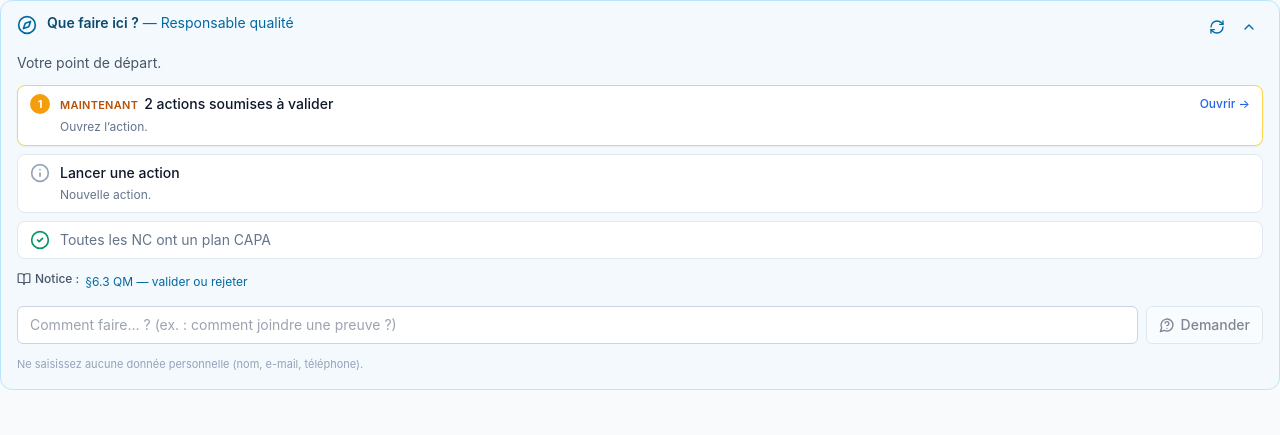
Test case: GuidePanel › affiche le refus du serveur (donnée personnelle)
Expected: the text "2 actions soumises à valider" is shown, [144,95,333,112]
Type "écrire à a@b.fr" into the field labelled "Comment faire… ?" at (577, 325), box [17,306,1138,344]
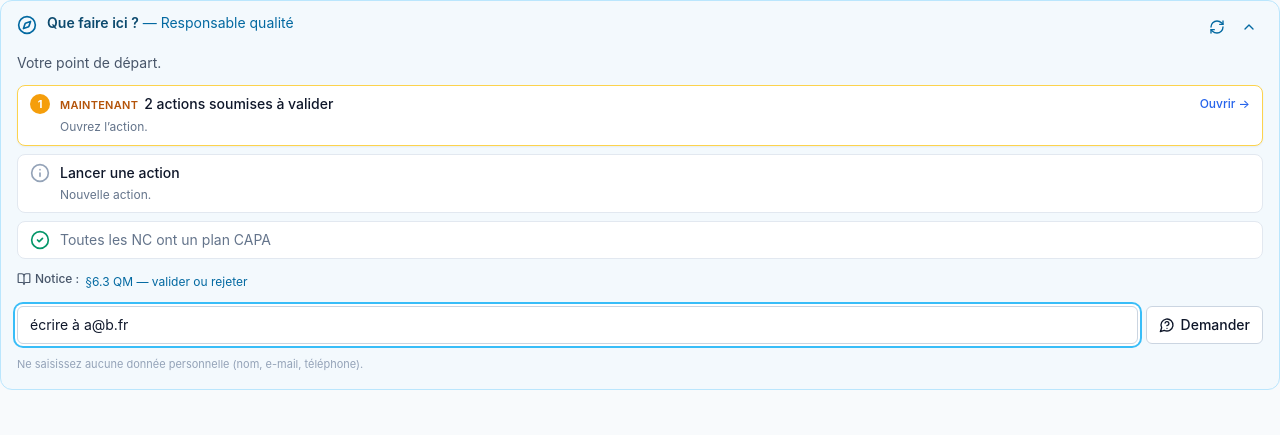
Click the button "Demander" at (1204, 325), box [1146,306,1263,344]
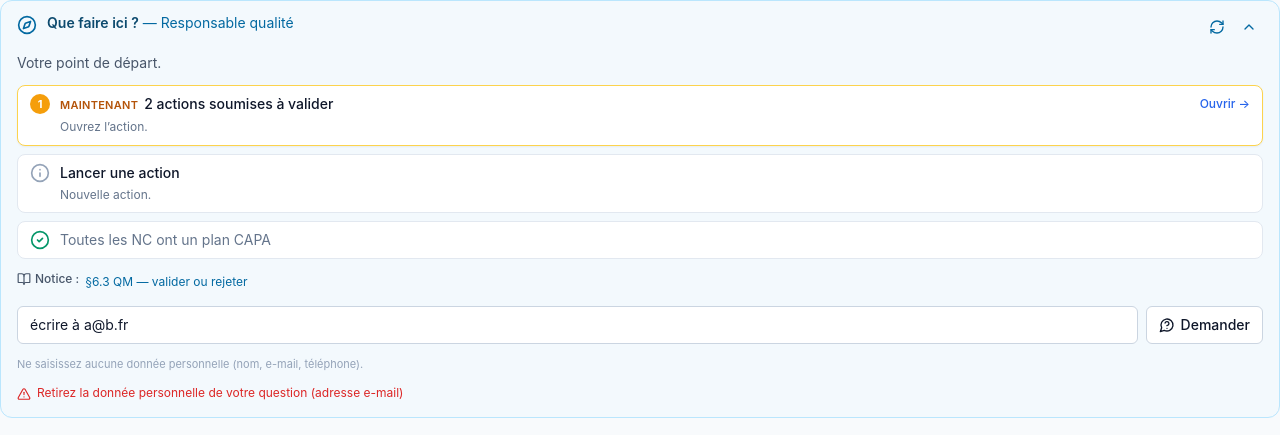
Result: the text "Retirez la donnée personnelle" is shown at [37,384,404,400]
